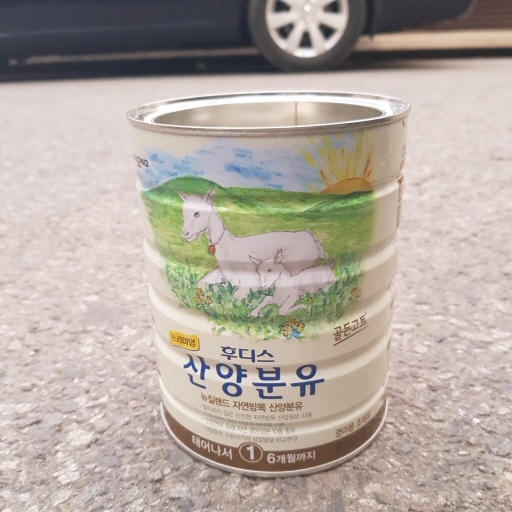Metal_1: (121, 88, 415, 479)
